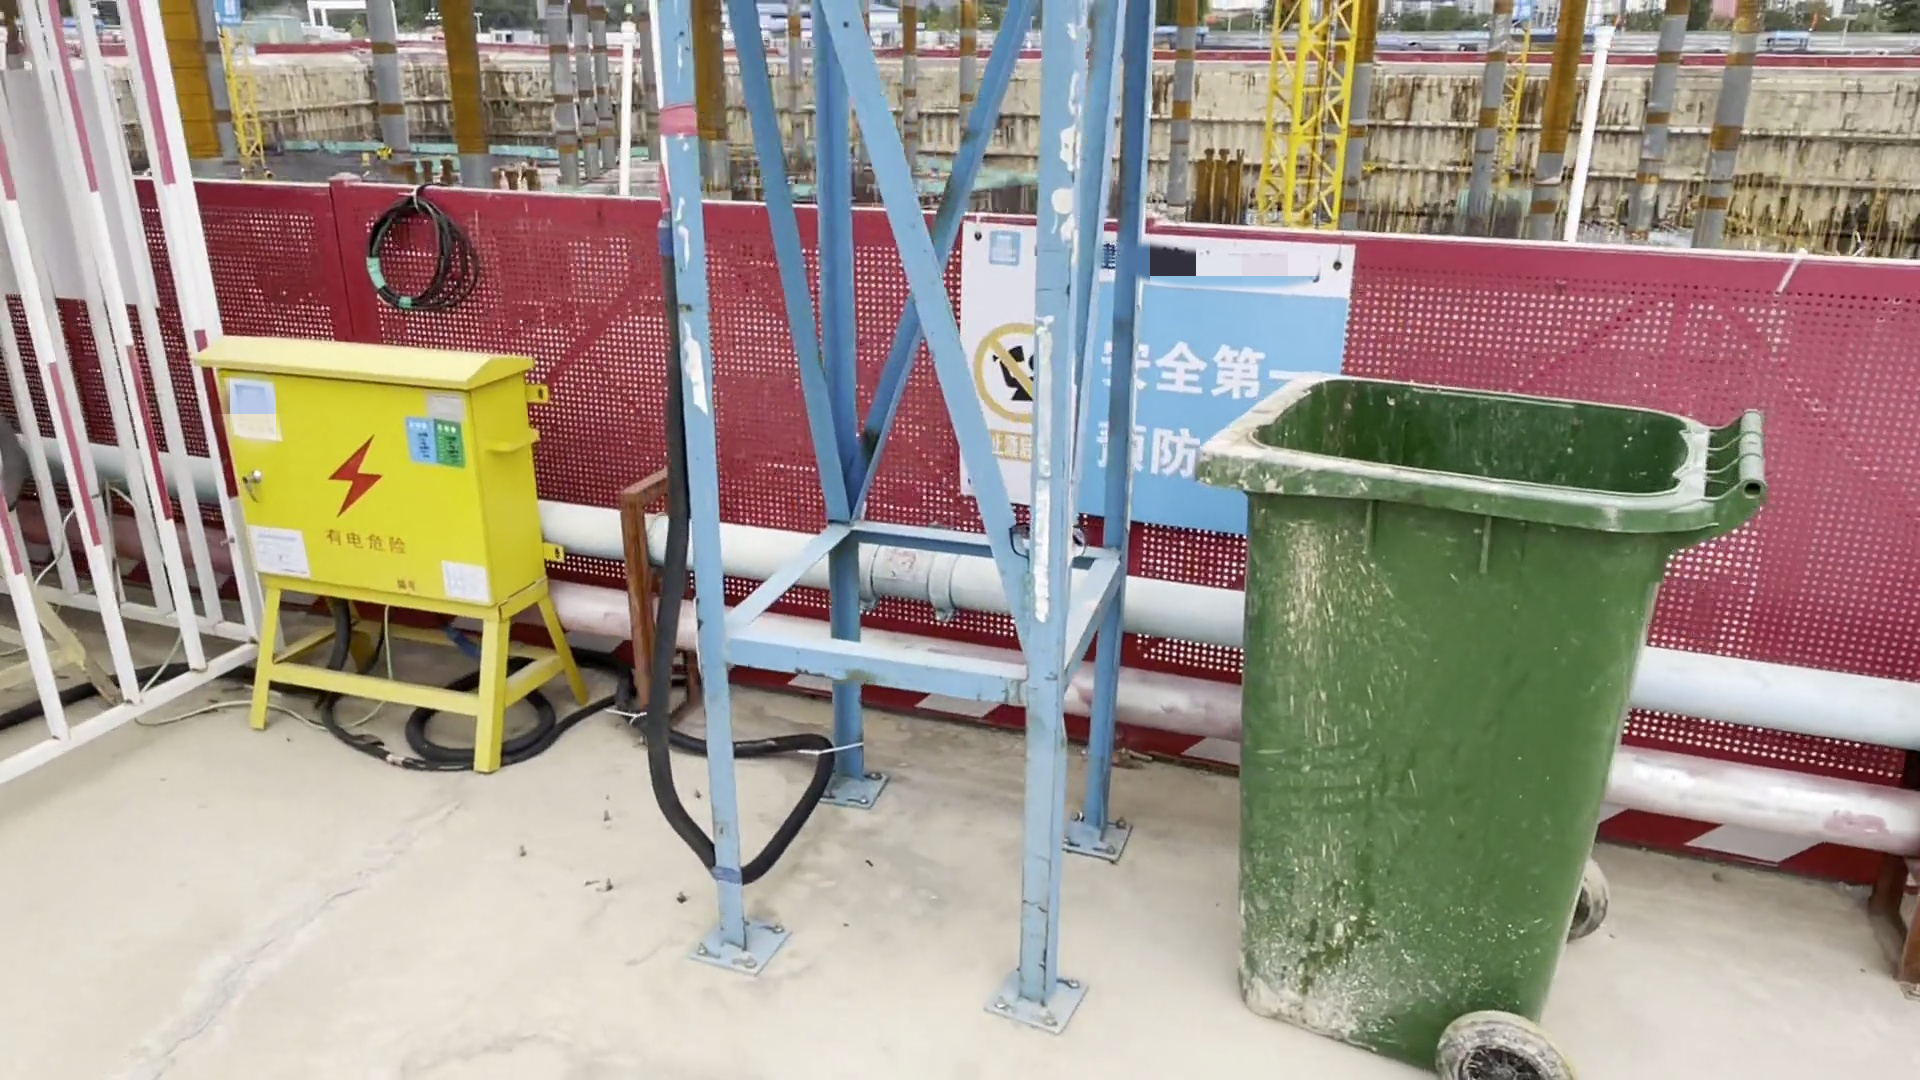ebox: (193, 316, 589, 757)
